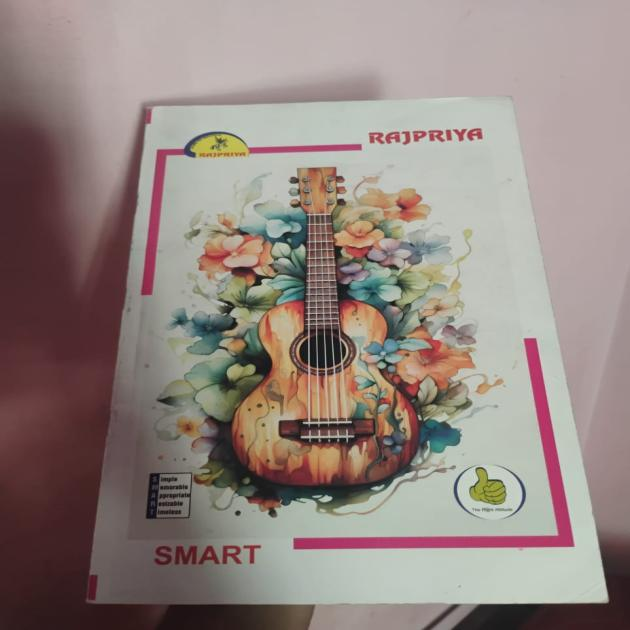notebook: (116, 95, 622, 617)
